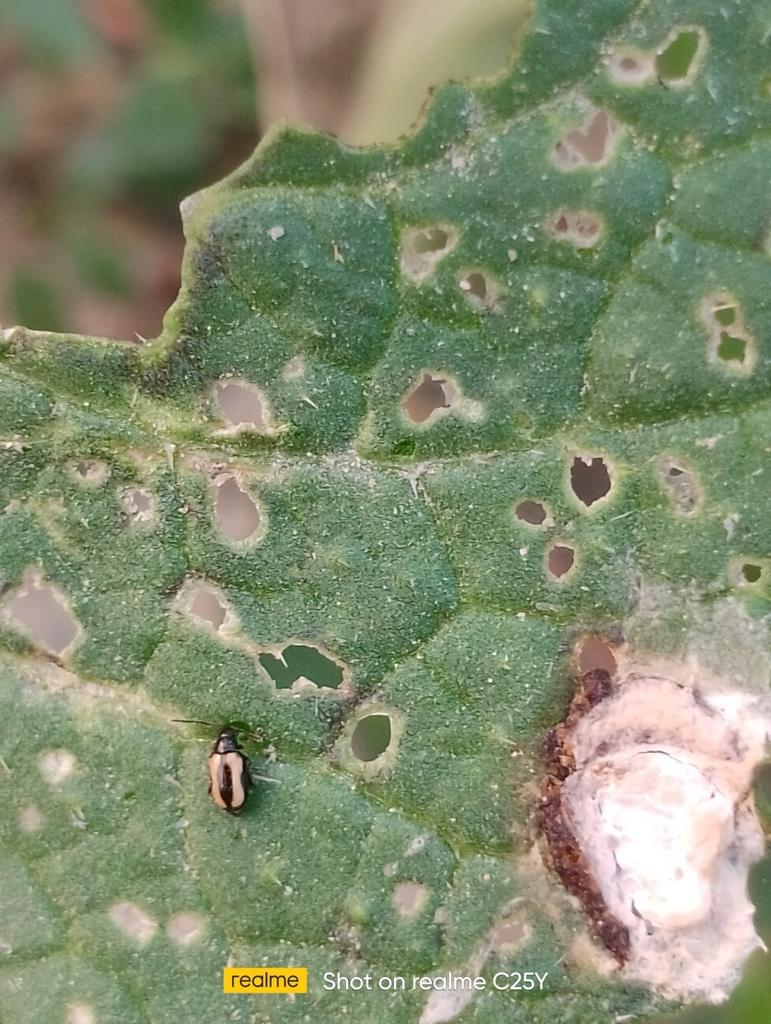flea_beetle: (155, 699, 298, 844)
